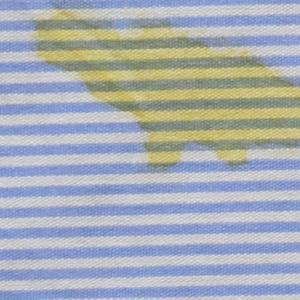Oil Stain: (29, 8, 300, 173)
